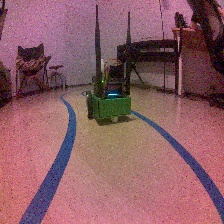rob: (85, 58, 132, 123)
